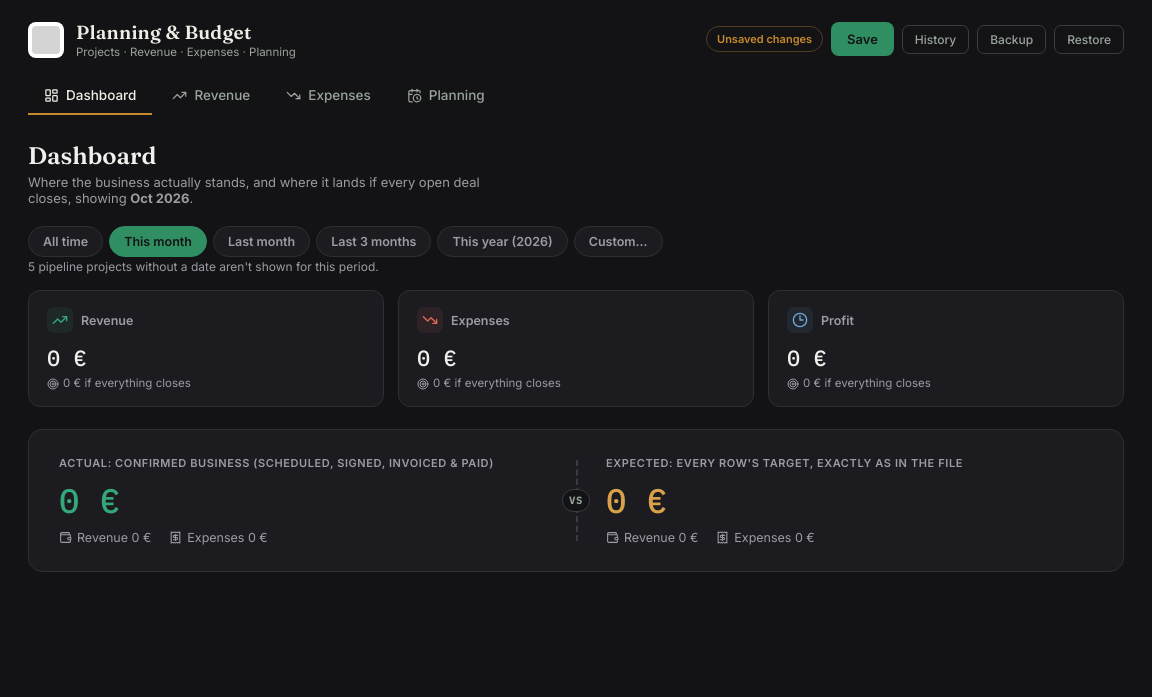
Test: Revenue column filters › filters by project name text
This screenshot has width=1152, height=697.
Click the button "Revenue" at point(211, 96), box [156,77,266,115]
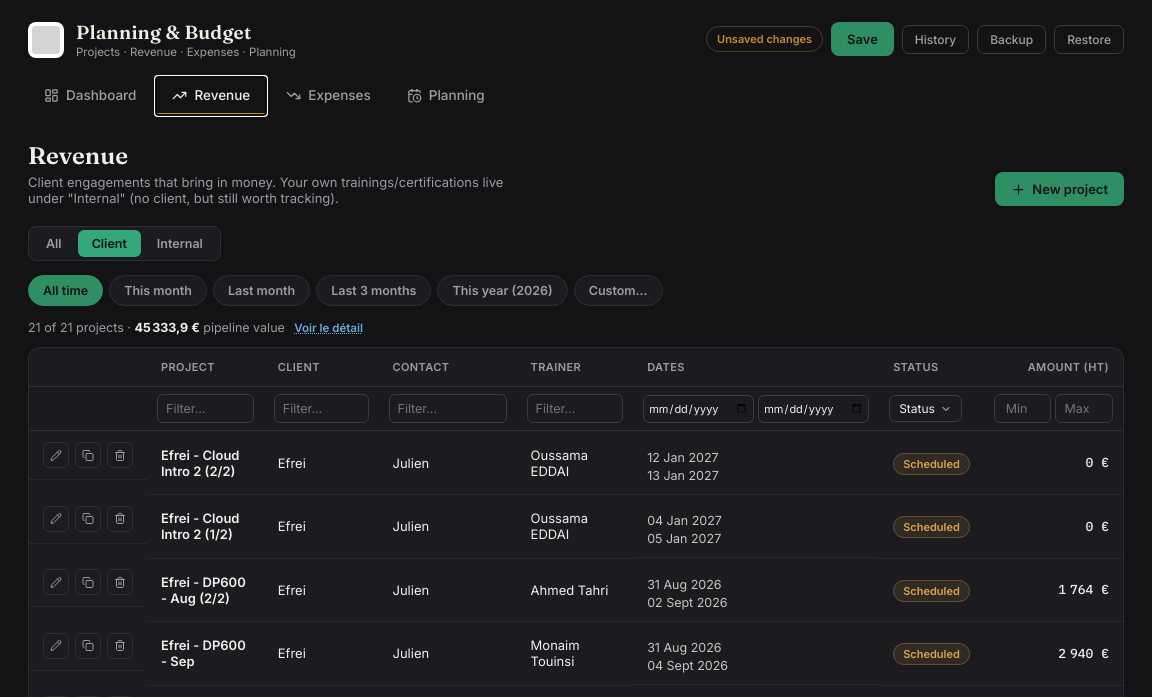
Type "AZ500" into the 1st field with placeholder "Filter…" at point(205, 408), box [157,394,254,423]
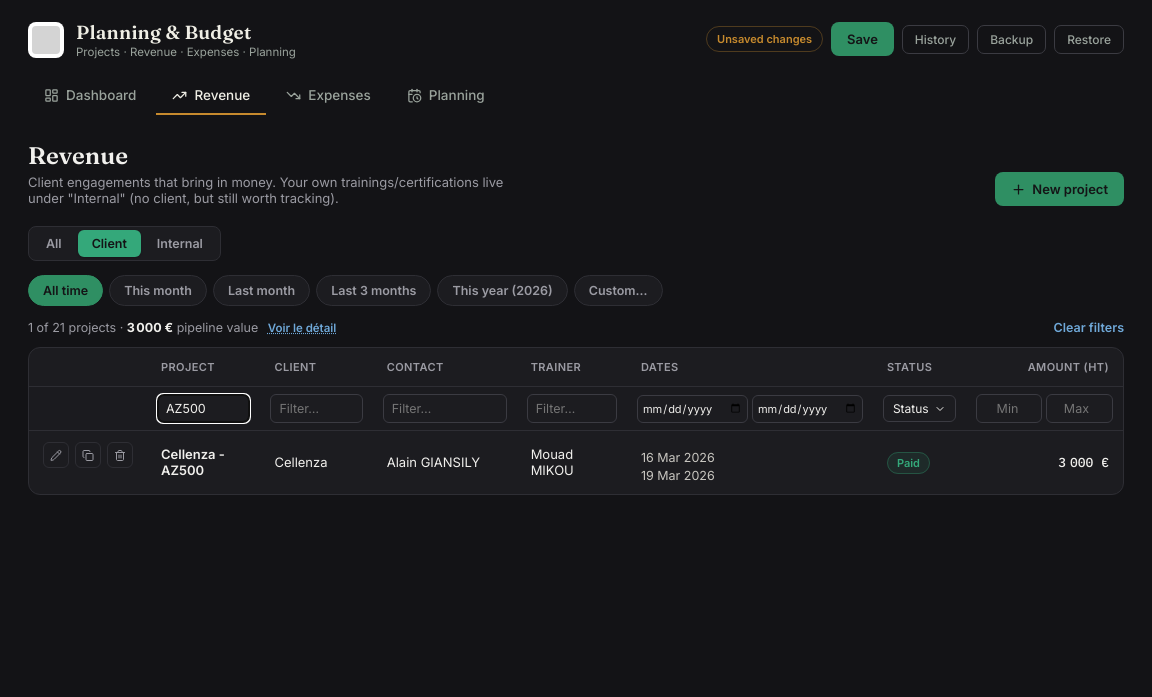
Now the text "Cellenza - AZ500" is shown, box [147,430,260,494]
Now the text "1 of 21 projects · 3 000 € pipeline value Voir le détail" is shown, box [28,320,336,335]
Now the text "Efrei - Cloud Intro" is gone
